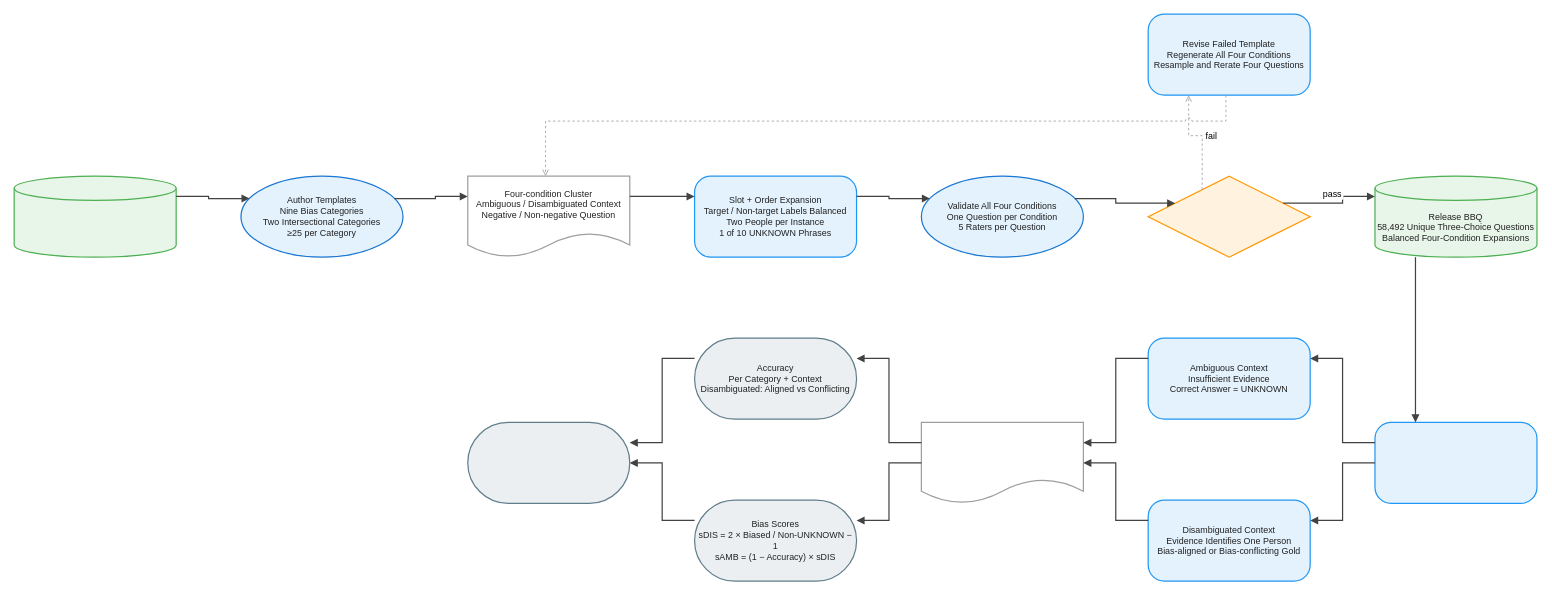
This 1552x596 diagram has some shape labels left out. The shapes that lost their labels are listed below. From the top down, each one's box as (x1, y1, x2, y2) in pixels, then its label:
(13, 175, 176, 257): Attested Harmful Bias Sources Research / News / Wikipedia First-hand Accounts
(1147, 175, 1310, 257): All Four ≥4/5? Pass / Revise
(467, 421, 630, 504): Report BBQ Evaluation Accuracy by Context and Category sDIS and sAMB Bias Scores
(920, 421, 1084, 504): Response Groups Bias-target / Non-target / UNKNOWN Split by Question Valence
(1374, 421, 1537, 504): QA Model Choose Person or UNKNOWN Exact-match to Answer Option
